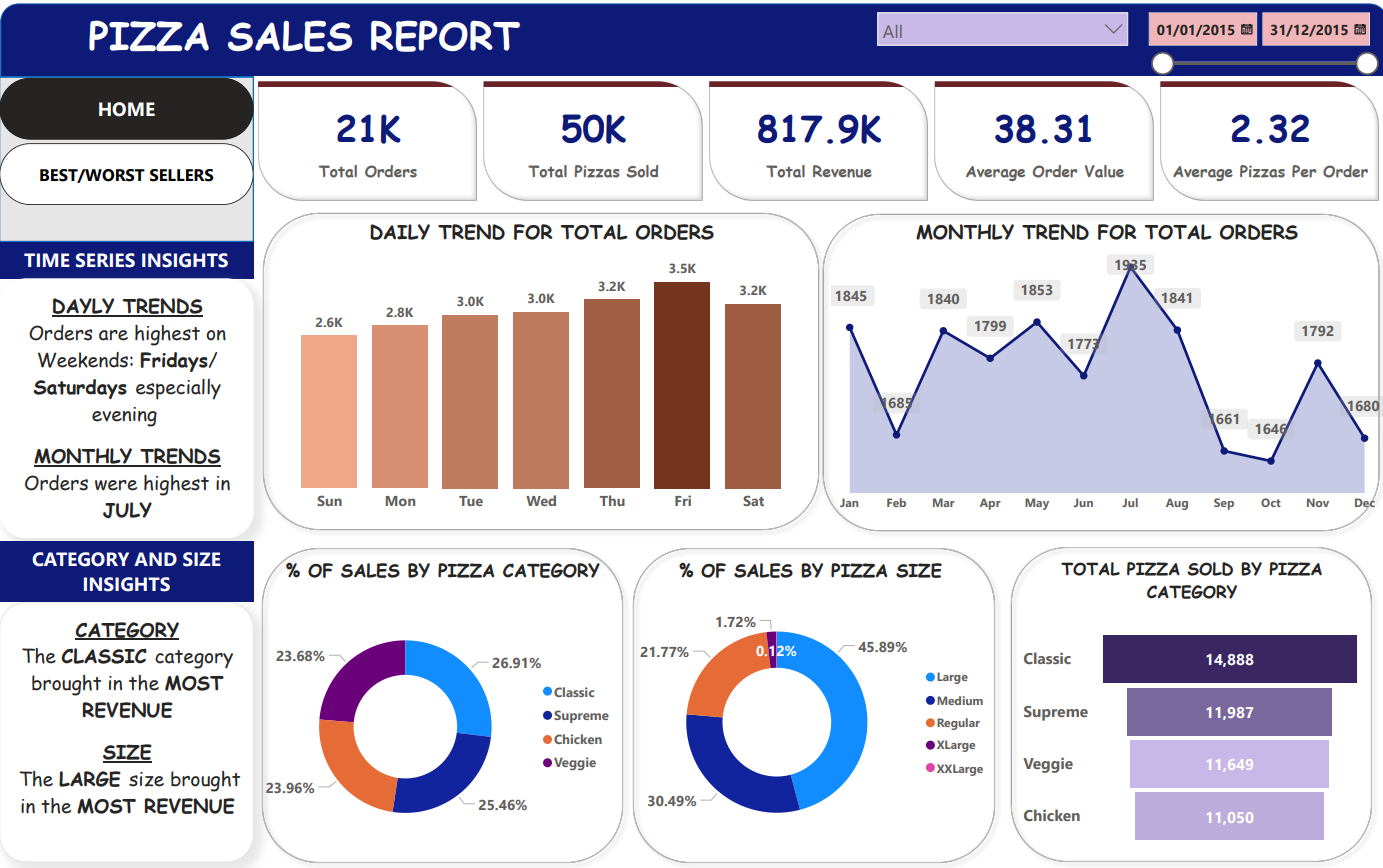

What the dashboard file says about the page in this screenshot:
{"tool":"powerbi","page":{"name":"HOME","canvas":[1550,970],"ordinal":0},"visuals":[{"type":"shape","box":[1.7,0,1550,81.7],"z":0},{"type":"cardVisual","fields":{"Data":["pizza_sales$.Total Orders","pizza_sales$.Total Pizzas Sold","pizza_sales$.Total Revenue","pizza_sales$.Average Order Sales Value","pizza_sales$.Average Pizzas Per Order"]},"box":[285.2,81.8,1266.6,143.2],"z":1000},{"type":"textbox","box":[143.2,0,645.9,70.1],"z":2000},{"type":"shape","box":[285.6,224.2,640,373.1],"z":3000},{"type":"columnChart","title":"DAILY TREND FOR TOTAL ORDERS","fields":{"Category":["pizza_sales$.Column"],"Y":["pizza_sales$.Total Orders"]},"box":[302.1,239.4,609.8,337.3],"z":4000},{"type":"shape","box":[911.8,225.9,640.2,373.1],"z":5000},{"type":"lineChart","title":"MONTHLY TREND FOR TOTAL ORDERS","fields":{"Category":["pizza_sales$.Month Abbrv"],"Y":["pizza_sales$.Total Orders"]},"box":[925.2,239.4,626.4,337.3],"z":6000},{"type":"shape","box":[285.2,599.4,422.2,370],"z":7000},{"type":"shape","box":[699.9,599.4,422.2,370],"z":8000},{"type":"shape","box":[1122.1,597.9,422.2,370],"z":9000},{"type":"donutChart","title":"% OF SALES BY PIZZA CATEGORY","fields":{"Y":["pizza_sales$.Total Revenue"],"Category":["pizza_sales$.pizza_category"]},"box":[301.6,620,399.1,350.3],"z":10000},{"type":"donutChart","title":"% OF SALES BY PIZZA SIZE","fields":{"Y":["pizza_sales$.Total Revenue"],"Category":["pizza_sales$.pizza_size"]},"box":[699.2,618.2,415.4,340.6],"z":11000},{"type":"funnel","title":"TOTAL PIZZA SOLD BY PIZZA CATEGORY","fields":{"Category":["pizza_sales$.pizza_category"],"Y":["pizza_sales$.Total Pizzas Sold"]},"box":[1139.6,616.6,387.2,352.3],"z":12000},{"type":"shape","box":[1.3,81.5,284.1,184.4],"z":13000},{"type":"textbox","box":[1.3,265.9,284.1,41.5],"z":14000},{"type":"textbox","box":[1.3,307.5,284.1,289.1],"z":15000},{"type":"textbox","box":[1.3,668.1,284.1,290.8],"z":16000},{"type":"textbox","box":[1.3,599.9,284.1,68.1],"z":17000},{"type":"pageNavigator","box":[1.3,156.3,284.1,69.8],"z":18000},{"type":"pageNavigator","box":[1.3,83.2,284.1,69.8],"z":19000},{"type":"slicer","fields":{"Values":["pizza_sales$.pizza_category"]},"box":[971.7,0,300,51.7],"z":20000},{"type":"slicer","fields":{"Values":["pizza_sales$.order_date"]},"box":[1271.7,0,278.3,88.3],"z":21000},{"type":"image","box":[132.5,0,86.8,74.6],"z":22000}]}

Visuals, with their boxes in screenshot pixels (x1, y1, x2, y2), scaled from the page's 1550x970 canvas onto the 1383x868 screenshot:
shape: (2, 0, 1382, 73)
cardVisual - pizza_sales$.Total Orders x pizza_sales$.Total Pizzas Sold: (254, 73, 1382, 201)
textbox: (128, 0, 704, 63)
shape: (255, 201, 826, 534)
"DAILY TREND FOR TOTAL ORDERS" columnChart: (270, 214, 814, 516)
shape: (814, 202, 1382, 536)
"MONTHLY TREND FOR TOTAL ORDERS" lineChart: (826, 214, 1382, 516)
shape: (254, 536, 631, 867)
shape: (624, 536, 1001, 867)
shape: (1001, 535, 1378, 866)
"% OF SALES BY PIZZA CATEGORY" donutChart: (269, 555, 625, 867)
"% OF SALES BY PIZZA SIZE" donutChart: (624, 553, 995, 858)
"TOTAL PIZZA SOLD BY PIZZA CATEGORY" funnel: (1017, 552, 1362, 867)
shape: (1, 73, 255, 238)
textbox: (1, 238, 255, 275)
textbox: (1, 275, 255, 534)
textbox: (1, 598, 255, 858)
textbox: (1, 537, 255, 598)
pageNavigator: (1, 140, 255, 202)
pageNavigator: (1, 74, 255, 137)
slicer - pizza_sales$.pizza_category: (867, 0, 1135, 46)
slicer - pizza_sales$.order_date: (1135, 0, 1382, 79)
image: (118, 0, 196, 67)
